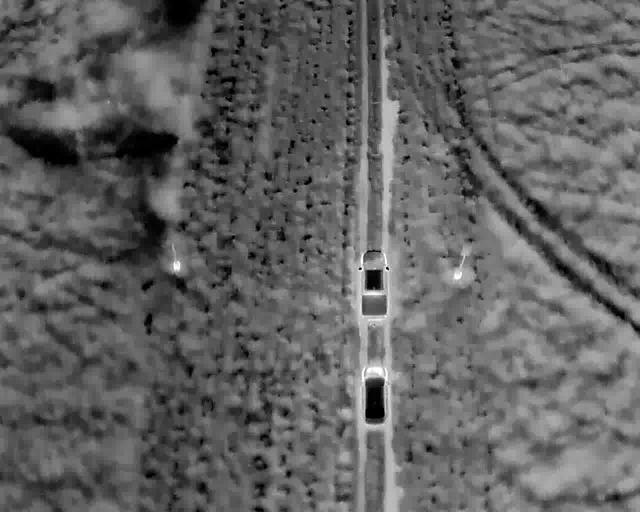car: (352, 6, 376, 53), (354, 76, 376, 116)
